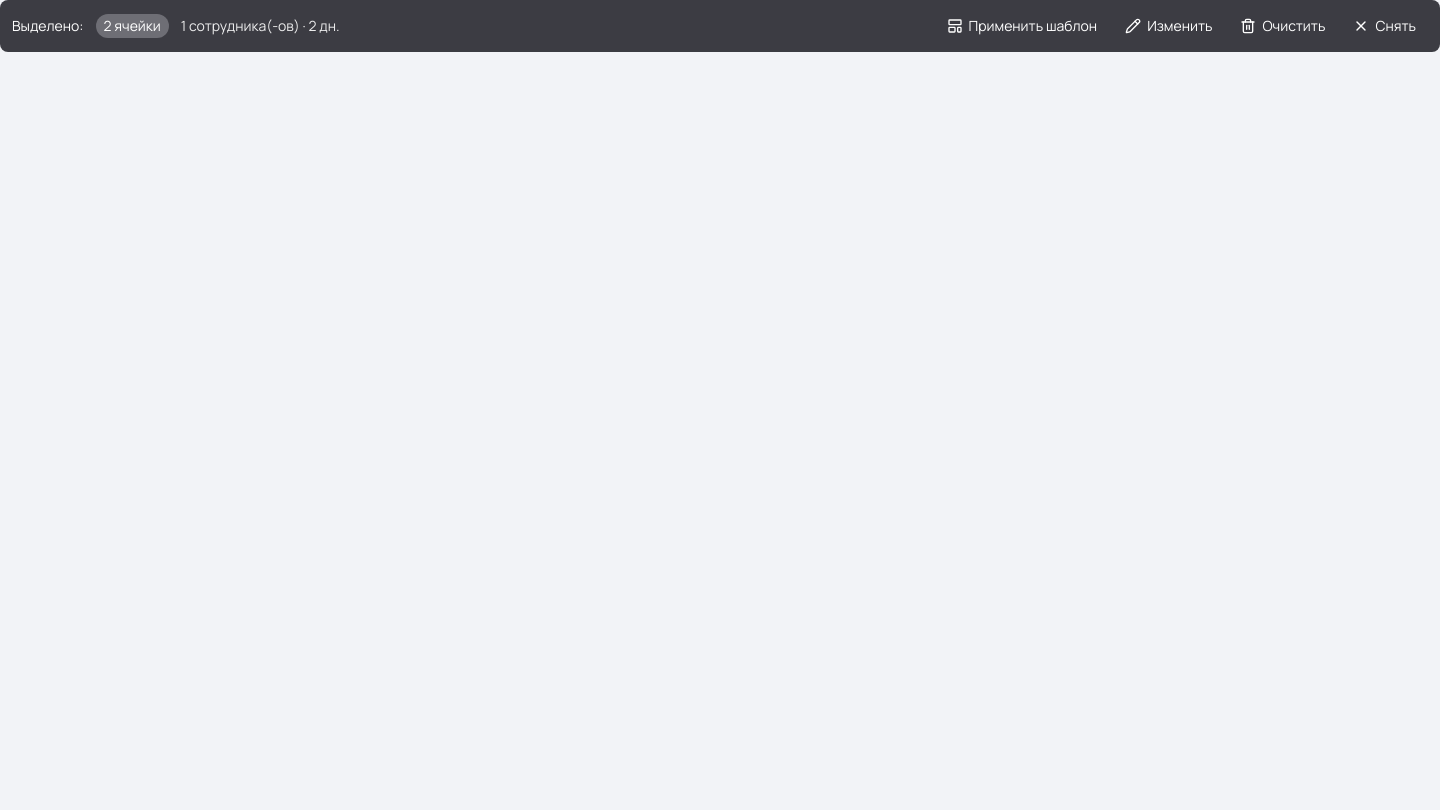
Test: SelectionToolbar: применить шаблон › назначает выбранный шаблон во все выделенные ячейки и закрывает список
Click the button "Применить шаблон": (1022, 26) [934, 10, 1109, 42]
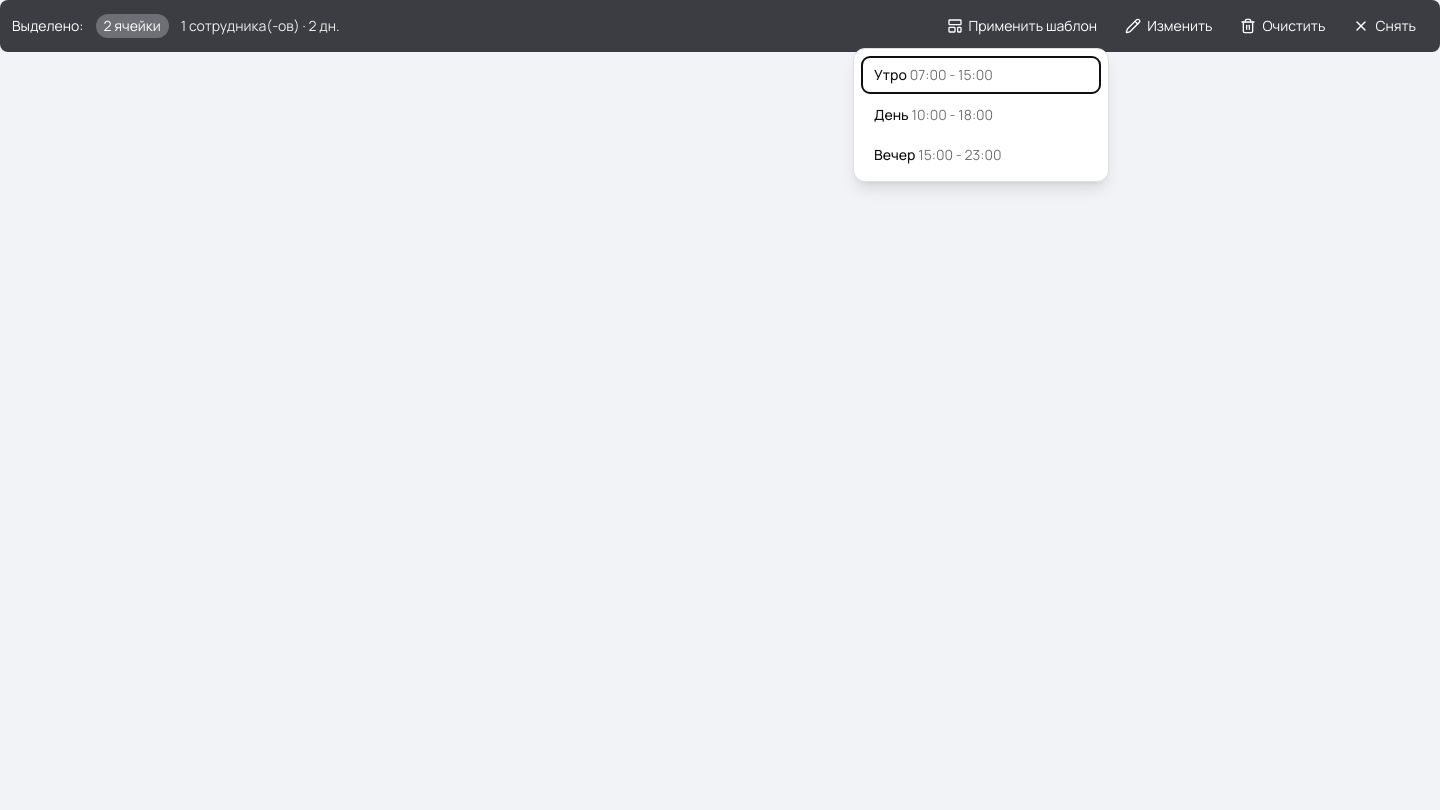
Click the button "Вечер 15:00 - 23:00": (981, 155) [862, 137, 1100, 173]
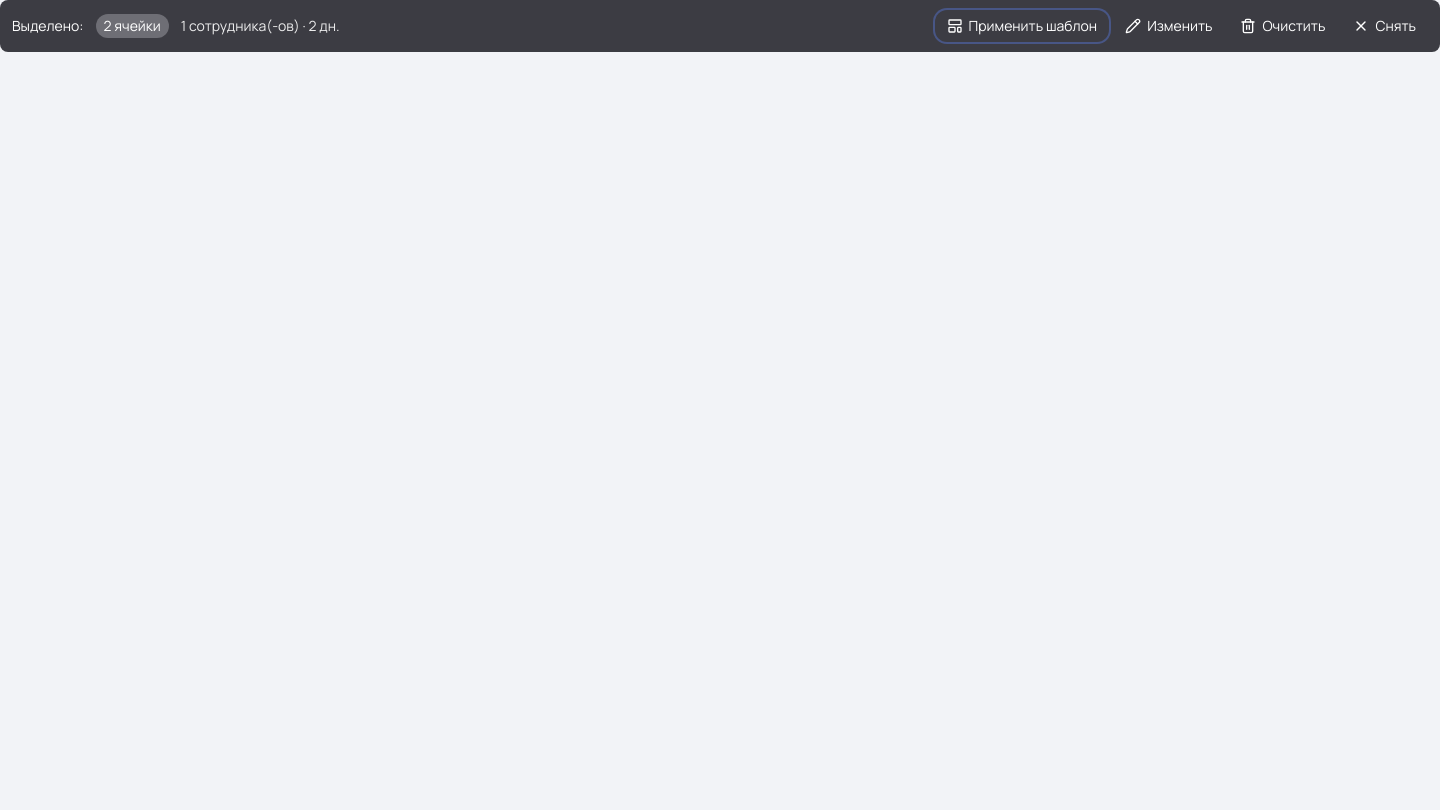
Check: the button "Вечер" is gone
